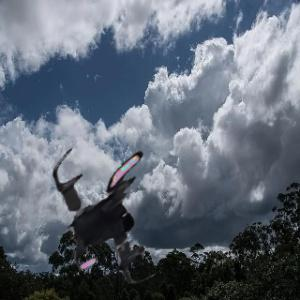drone: (37, 131, 199, 293)
